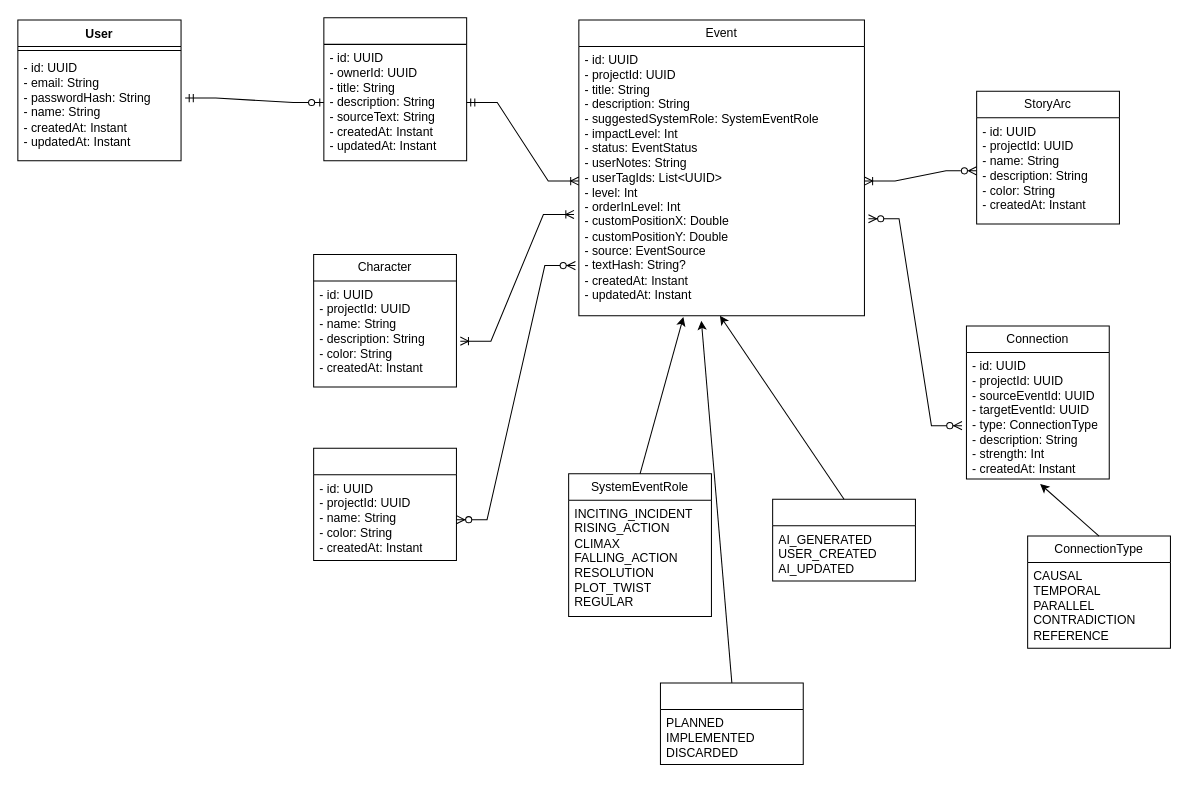
The diagram is 1188 pixels wide and 785 high, and some of its shapes have lost their labels. The shapes that lost their labels are listed below. From the top down, each one's box as (x1, y1, x2, y2) in pixels, then its label:
(323, 17, 467, 161): Project
(313, 447, 456, 560): UserTag
(772, 498, 915, 581): EventSource
(659, 682, 803, 764): EventStatus
